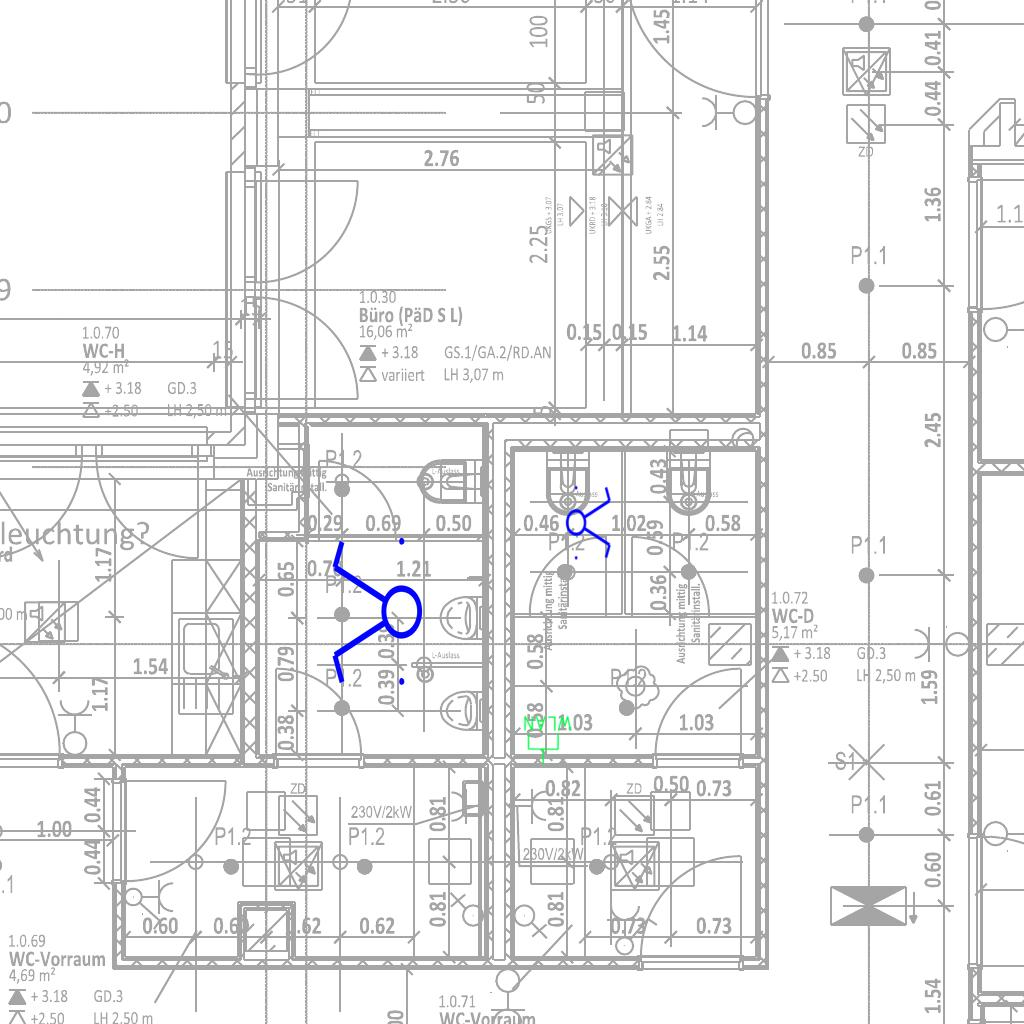Serienschalter: (328, 529, 424, 697), (565, 480, 613, 564)
WLAN: (522, 714, 574, 766)
